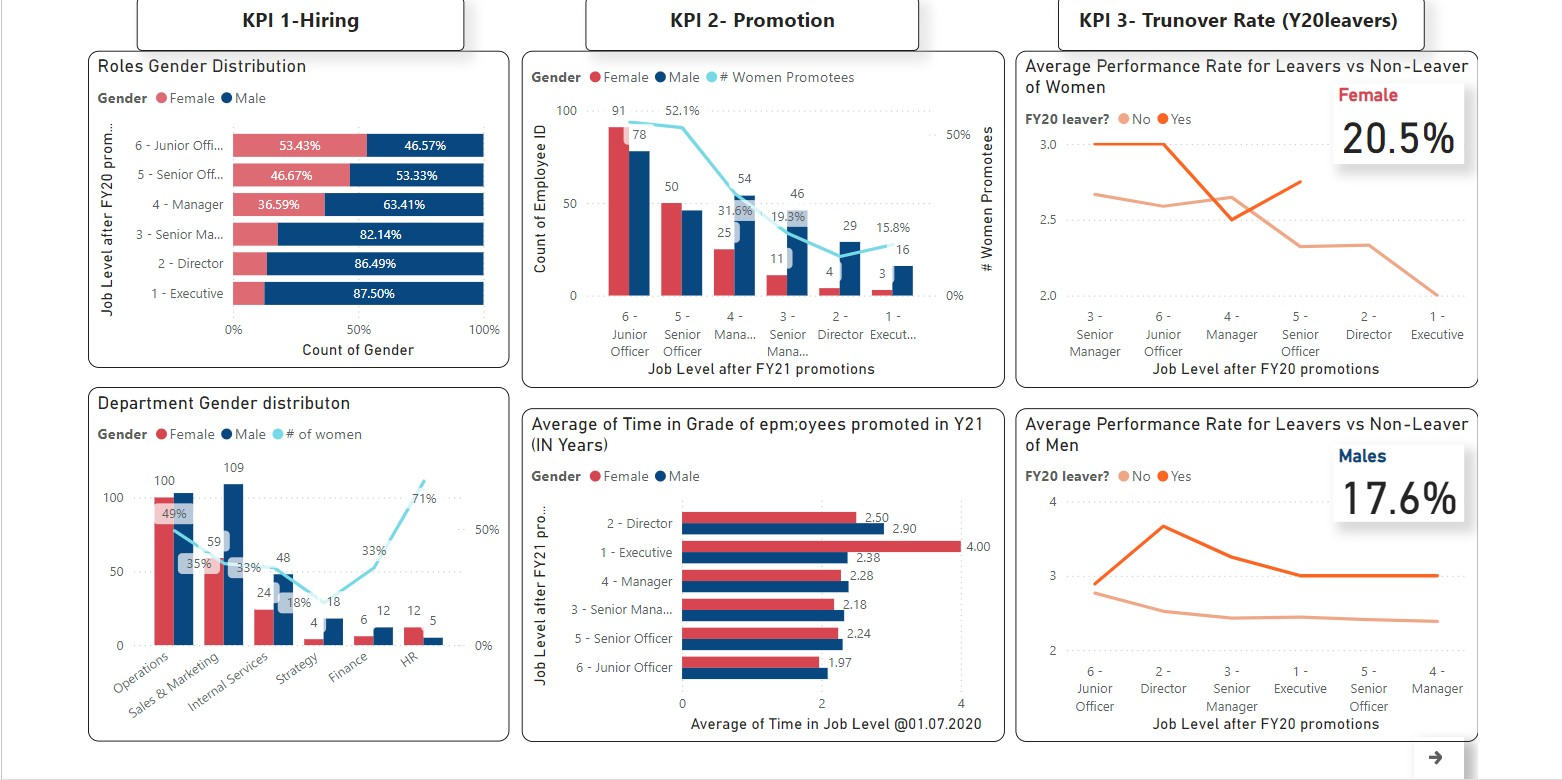

This screenshot's page, from the dashboard's own definition file:
{"tool":"powerbi","page":{"name":"page1 ","canvas":[1280,720],"ordinal":1},"visuals":[{"type":"hundredPercentStackedBarChart","title":"Roles Gender Distribution","fields":{"Category":["Pharma Group AG.Job Level after FY20 promotions"],"Series":["Pharma Group AG.Gender"],"Y":["Pharma Group AG.Gender"]},"box":[0,49.4,388.3,292.3],"z":0},{"type":"lineClusteredColumnComboChart","title":"Department Gender distributon","fields":{"Category":["Pharma Group AG.Department @01.07.2020"],"Y":["Pharma Group AG.Employee ID"],"Series":["Pharma Group AG.Gender"],"Y2":["Pharma Group AG.# of women"]},"box":[0,359.5,388.3,326.6],"z":1000},{"type":"clusteredBarChart","title":"Average of Time in Grade of epm;oyees promoted in Y21 (IN Years)","fields":{"Category":["Pharma Group AG.Job Level after FY21 promotions"],"Series":["Pharma Group AG.Gender"],"Y":["Pharma Group AG.Time in Job Level @01.07.2020"]},"box":[399.3,378.7,444.6,307.4],"z":2000},{"type":"lineClusteredColumnComboChart","fields":{"Category":["Pharma Group AG.Job Level after FY21 promotions"],"Y":["Backing 1.Employee ID"],"Y2":["Pharma Group AG.# Women Promotees"],"Series":["Pharma Group AG.Gender"]},"box":[399.3,49.4,444.6,310.1],"z":3000},{"type":"lineChart","title":"Average Performance Rate for Leavers vs Non-Leaver of Women","fields":{"Category":["Pharma Group AG.Job Level after FY20 promotions"],"Y":["Pharma Group AG.FY19 Performance Rating"],"Series":["Pharma Group AG.FY20 leaver?"]},"box":[853.5,49.4,426.8,310.1],"z":4000},{"type":"lineChart","title":"Average Performance Rate for Leavers vs Non-Leaver of Men","fields":{"Category":["Pharma Group AG.Job Level after FY20 promotions"],"Y":["Pharma Group AG.FY19 Performance Rating"],"Series":["Pharma Group AG.FY20 leaver?"]},"box":[853.5,378.7,426.8,307.4],"z":5000},{"type":"card","title":"Female","fields":{"Values":["Backing 1.% Turnover"]},"box":[1145.8,79.6,120.8,74.1],"z":7000},{"type":"card","title":"Males","fields":{"Values":["Backing 1.% Turnover"]},"box":[1145.8,411.7,120.8,71.4],"z":8000},{"type":"textbox","box":[45.3,0,301.9,49.4],"z":9000},{"type":"textbox","box":[458.3,0,307.4,49.4],"z":10000},{"type":"textbox","box":[893.3,0,337.6,49.4],"z":11000},{"type":"actionButton","box":[1220.9,681.6,45.8,38.6],"z":12001}]}

Visuals, with their boxes in screenshot pixels (x1, y1, x2, y2):
"Roles Gender Distribution" hundredPercentStackedBarChart: rect(102, 49, 517, 361)
"Department Gender distributon" lineClusteredColumnComboChart: rect(102, 380, 517, 730)
"Average of Time in Grade of epm;oyees promoted in Y21 (IN Years)" clusteredBarChart: rect(529, 401, 1004, 730)
lineClusteredColumnComboChart - Pharma Group AG.Job Level after FY21 promotions x Backing 1.Employee ID: rect(529, 49, 1004, 380)
"Average Performance Rate for Leavers vs Non-Leaver of Women" lineChart: rect(1015, 49, 1471, 380)
"Average Performance Rate for Leavers vs Non-Leaver of Men" lineChart: rect(1015, 401, 1471, 730)
"Female" card: rect(1327, 81, 1457, 160)
"Males" card: rect(1327, 436, 1457, 513)
textbox: rect(150, 0, 473, 49)
textbox: rect(592, 0, 921, 49)
textbox: rect(1057, 0, 1418, 49)
actionButton: rect(1408, 725, 1457, 766)
